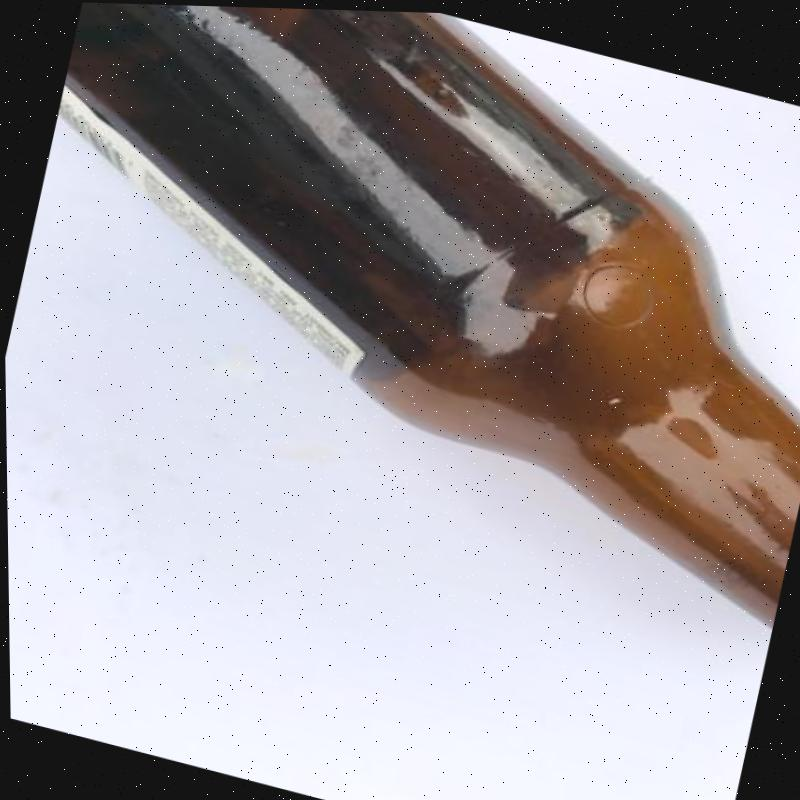glass bottle: (58, 2, 800, 625)
